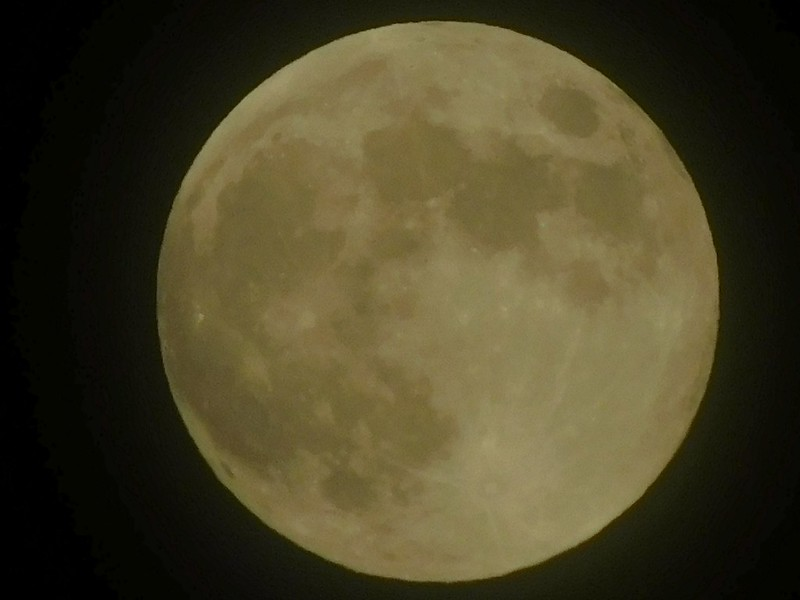crater: (449, 444, 553, 537), (267, 263, 347, 363), (630, 185, 669, 235), (486, 291, 517, 327), (397, 207, 427, 238), (264, 130, 289, 153), (191, 304, 213, 326)
